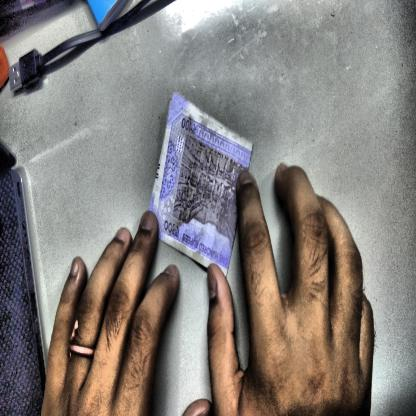Rs100: (179, 114, 201, 140)
